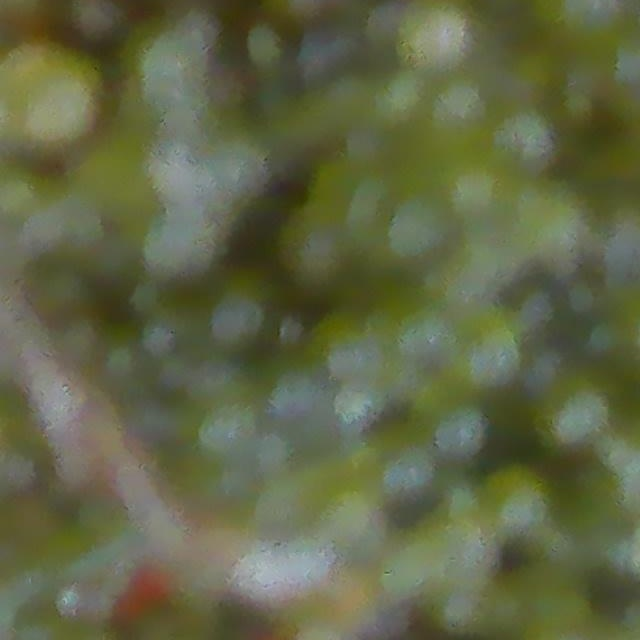SeaGrape: (506, 175, 603, 275), (15, 46, 103, 148), (531, 370, 620, 455), (392, 0, 485, 81), (486, 97, 566, 179), (423, 68, 498, 148), (429, 399, 490, 464), (60, 0, 129, 50)
